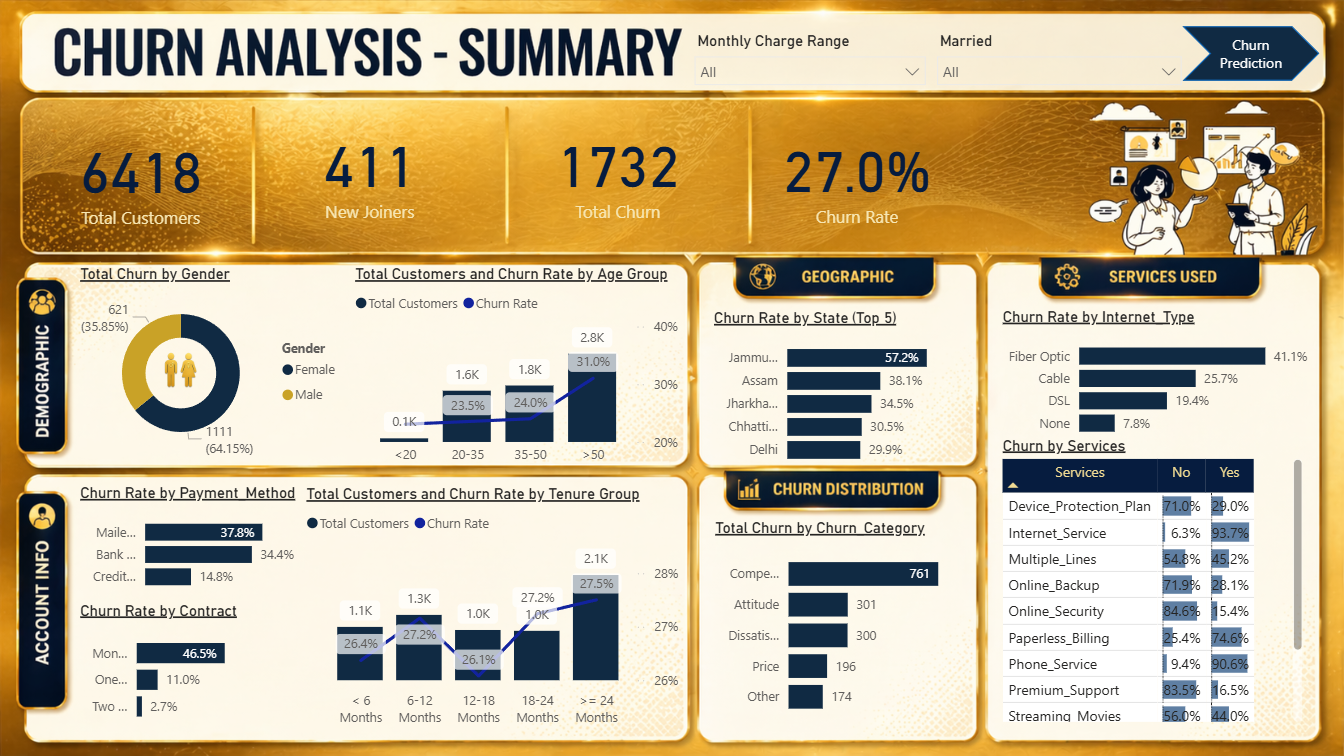

The page's visual inventory and layout, read from the dashboard file:
{"tool":"powerbi","page":{"name":"Summary","canvas":[1280,720],"ordinal":0},"visuals":[{"type":"image","box":[149.6,325.7,42.2,51.9],"z":0},{"type":"donutChart","fields":{"Category":["prod_Churn.Gender"],"Y":["tbl_Measures.Total Churn"]},"box":[71.2,252.1,263,189.4],"z":1000},{"type":"card","fields":{"Values":["tbl_Measures.Total Customers"]},"box":[28.8,106.2,211.2,126.2],"z":2000},{"type":"card","fields":{"Values":["tbl_Measures.New Joiners"]},"box":[266.2,106.2,171.2,115],"z":3000},{"type":"card","fields":{"Values":["tbl_Measures.Total Churn"]},"box":[501.2,106.2,175,115],"z":4000},{"type":"card","fields":{"Values":["tbl_Measures.Churn Rate"]},"box":[730,111.1,173.3,114.4],"z":5000},{"type":"lineStackedColumnComboChart","fields":{"Category":["mapping_AgeGrp.Age Group "],"Y":["tbl_Measures.Total Customers"],"Y2":["tbl_Measures.Churn Rate"]},"box":[333.8,252.5,317.5,198.8],"z":6000},{"type":"clusteredBarChart","fields":{"Category":["prod_Churn.Payment_Method"],"Y":["tbl_Measures.Churn Rate"]},"box":[71.2,461.2,216.2,111.2],"z":7000},{"type":"clusteredBarChart","fields":{"Category":["prod_Churn.Contract"],"Y":["tbl_Measures.Churn Rate"]},"box":[71.2,572.5,183.8,126.2],"z":8000},{"type":"clusteredBarChart","title":"Churn Rate by State (Top 5)","fields":{"Category":["prod_Churn.State"],"Y":["tbl_Measures.Churn Rate"]},"box":[675,293.8,246.2,157.5],"z":9000},{"type":"clusteredBarChart","fields":{"Category":["prod_Churn.Churn_Category"],"Y":["tbl_Measures.Total Churn"]},"box":[675.7,494.3,247.1,198.6],"z":10000},{"type":"clusteredBarChart","fields":{"Category":["prod_Churn.Internet_Type"],"Y":["tbl_Measures.Churn Rate"]},"box":[949.5,293.2,306.4,132.7],"z":11000},{"type":"pivotTable","title":"Churn by Services","fields":{"Rows":["prod_Services.Services"],"Columns":["prod_Services.Status"],"Values":["Sum(prod_Services.Churn Status)"]},"box":[950,415.7,295.7,277.1],"z":12000},{"type":"slicer","fields":{"Values":["prod_Churn.Monthly Charge Status"]},"box":[651.5,25.3,240.1,57.9],"z":13000},{"type":"slicer","fields":{"Values":["prod_Churn.Married"]},"box":[881.9,25.3,253.4,67.6],"z":14000},{"type":"lineStackedColumnComboChart","fields":{"Category":["mapping_TenureGrp.Tenure Group "],"Y":["tbl_Measures.Total Customers"],"Y2":["tbl_Measures.Churn Rate"]},"box":[287.1,461.4,364.3,237.1],"z":15000},{"type":"shape","box":[1125.6,25.3,130.3,51.9],"z":16000}]}

Visuals, with their boxes in screenshot pixels (x1, y1, x2, y2), scaled from the page's 1280x720 canvas onto the 1344x756 screenshot:
image: <region>157, 342, 201, 396</region>
donutChart - prod_Churn.Gender x tbl_Measures.Total Churn: <region>75, 265, 351, 464</region>
card - tbl_Measures.Total Customers: <region>30, 112, 252, 244</region>
card - tbl_Measures.New Joiners: <region>280, 112, 459, 232</region>
card - tbl_Measures.Total Churn: <region>526, 112, 710, 232</region>
card - tbl_Measures.Churn Rate: <region>766, 117, 948, 237</region>
lineStackedColumnComboChart - mapping_AgeGrp.Age Group  x tbl_Measures.Total Customers: <region>350, 265, 684, 474</region>
clusteredBarChart - prod_Churn.Payment_Method x tbl_Measures.Churn Rate: <region>75, 484, 302, 601</region>
clusteredBarChart - prod_Churn.Contract x tbl_Measures.Churn Rate: <region>75, 601, 268, 734</region>
"Churn Rate by State (Top 5)" clusteredBarChart: <region>709, 308, 967, 474</region>
clusteredBarChart - prod_Churn.Churn_Category x tbl_Measures.Total Churn: <region>709, 519, 969, 728</region>
clusteredBarChart - prod_Churn.Internet_Type x tbl_Measures.Churn Rate: <region>997, 308, 1319, 447</region>
"Churn by Services" pivotTable: <region>998, 436, 1308, 727</region>
slicer - prod_Churn.Monthly Charge Status: <region>684, 27, 936, 87</region>
slicer - prod_Churn.Married: <region>926, 27, 1192, 98</region>
lineStackedColumnComboChart - mapping_TenureGrp.Tenure Group  x tbl_Measures.Total Customers: <region>301, 484, 684, 733</region>
shape: <region>1182, 27, 1319, 81</region>
